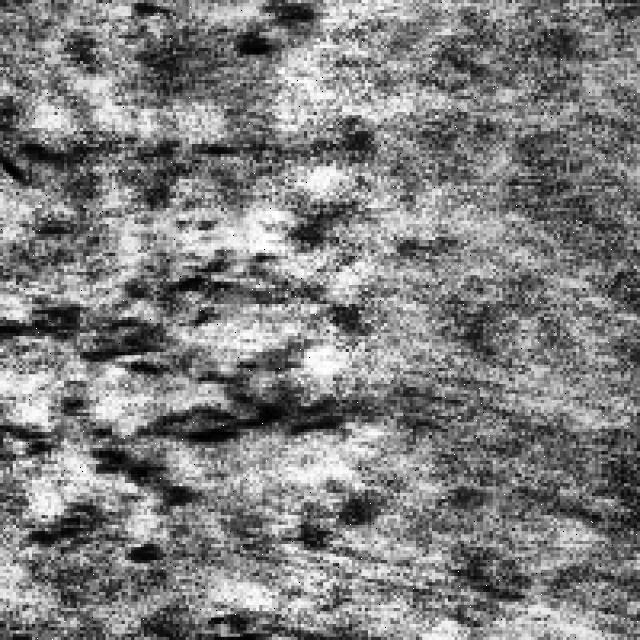Crazing: (3, 237, 346, 560), (218, 0, 321, 54)
